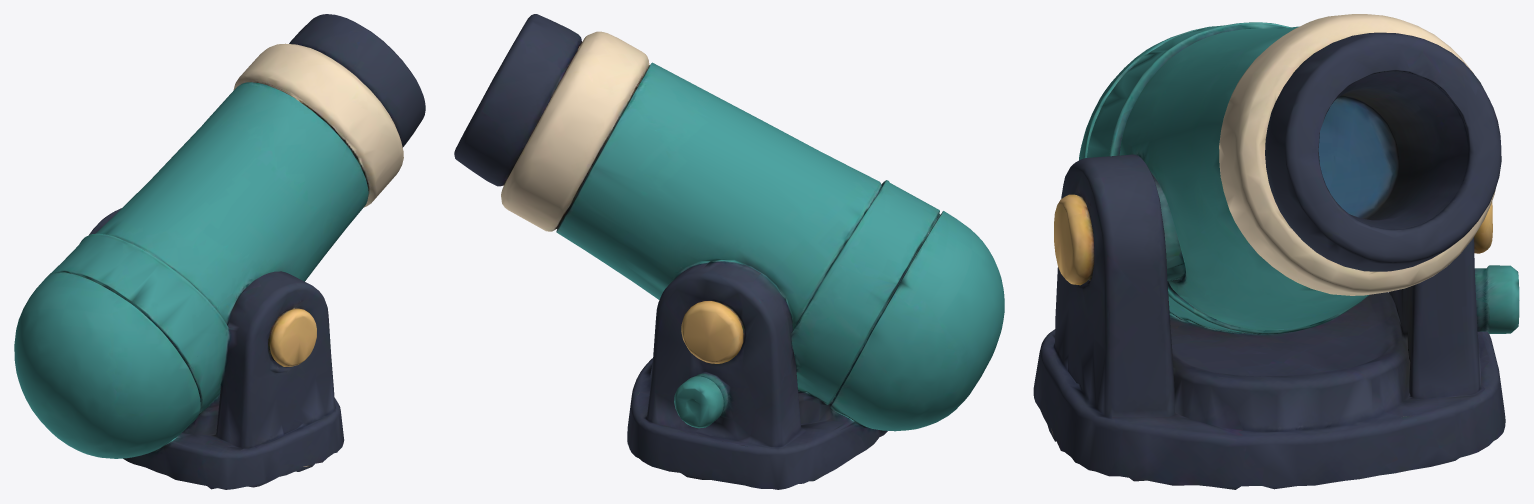
Rendered from cannon.glb.
3 renders of one model, left to right at view 1: azimuth 30°, elevation 25°; view 2: azimuth 150°, elevation 25°; view 3: azimuth 270°, elevation 25°, orthographic. The views are drawn at different scales.
Visible parts, largest first — view 1: tripo_node_7f1f8454-e4b6-47b6-9843-dbbf0f9f5856; view 2: tripo_node_7f1f8454-e4b6-47b6-9843-dbbf0f9f5856; view 3: tripo_node_7f1f8454-e4b6-47b6-9843-dbbf0f9f5856.
Boxes of the visible parts, x1,y1,x2,y2 form: tripo_node_7f1f8454-e4b6-47b6-9843-dbbf0f9f5856: (14, 14, 425, 489); tripo_node_7f1f8454-e4b6-47b6-9843-dbbf0f9f5856: (454, 14, 1004, 489); tripo_node_7f1f8454-e4b6-47b6-9843-dbbf0f9f5856: (1033, 14, 1519, 489).
Bounding box in the file's own units: 0.9976 × 0.753 × 0.65.
1 material, 1 textured.
